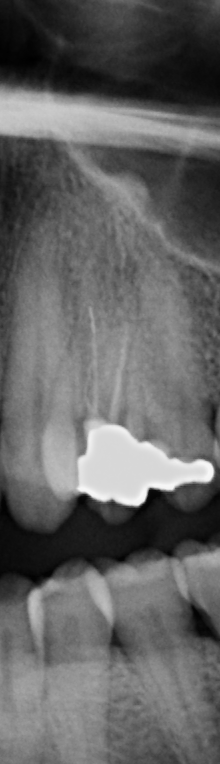fracture: (86, 302, 98, 338)
